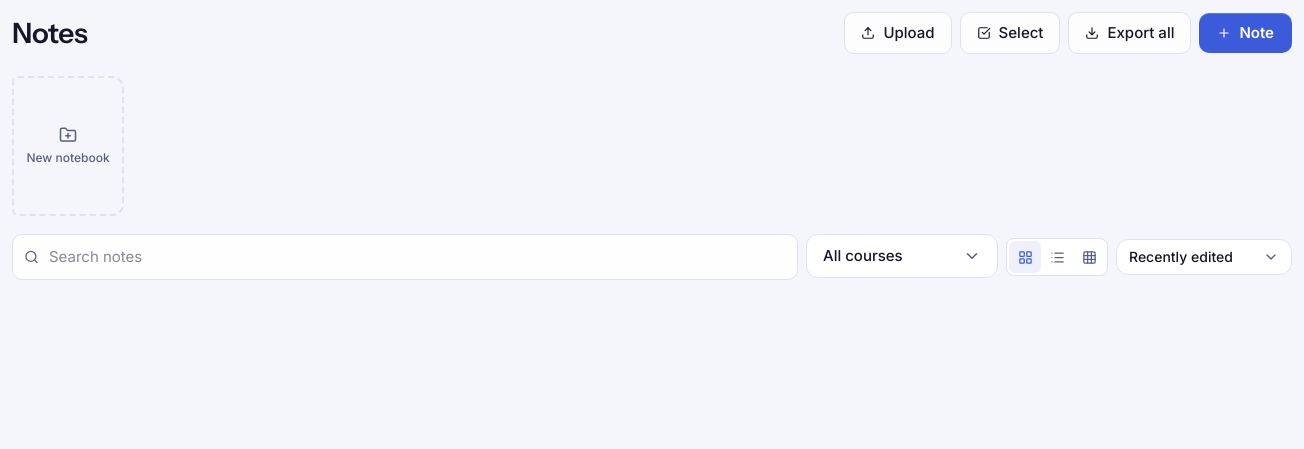
Test case: notes search › a slow earlier search result does not replace the newer one
The width and height of the screenshot is (1304, 449).
Step 1. Type "kre" into the field labelled "Search notes" → (405, 257), box [12,234,798,280]
Wait 300 ms
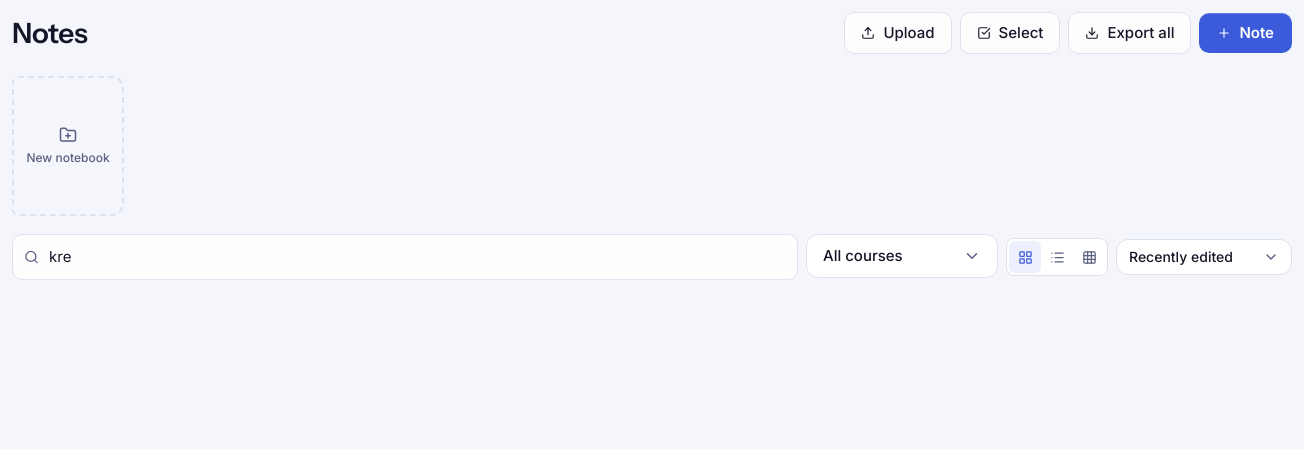
Step 2. Replace the text in the field named "Search notes" with "krebs" → (405, 257), box [12,234,798,280]
Wait 300 ms
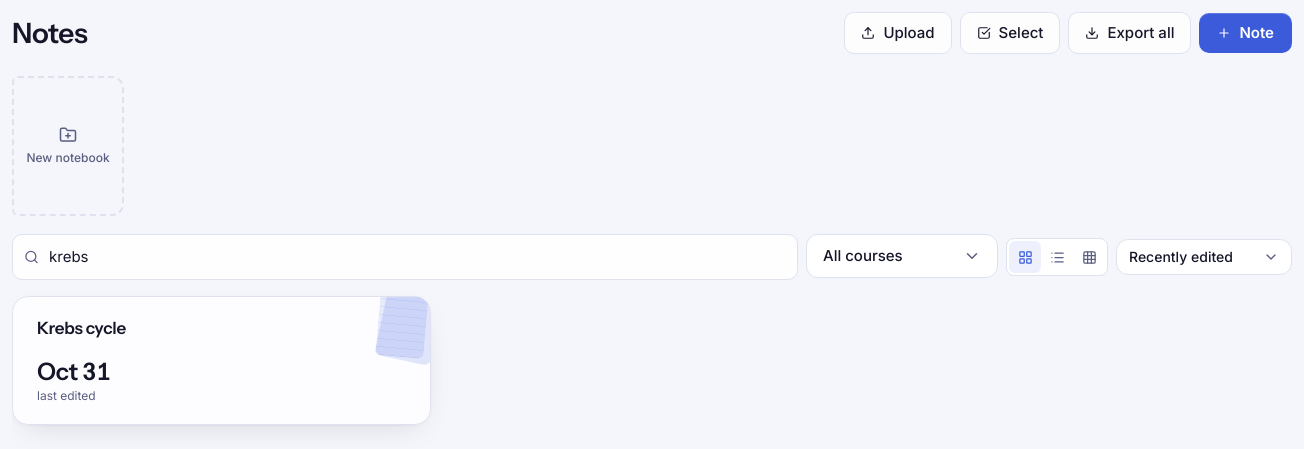
Result: the text "Krebs cycle" is shown at [37,318,126,338]
